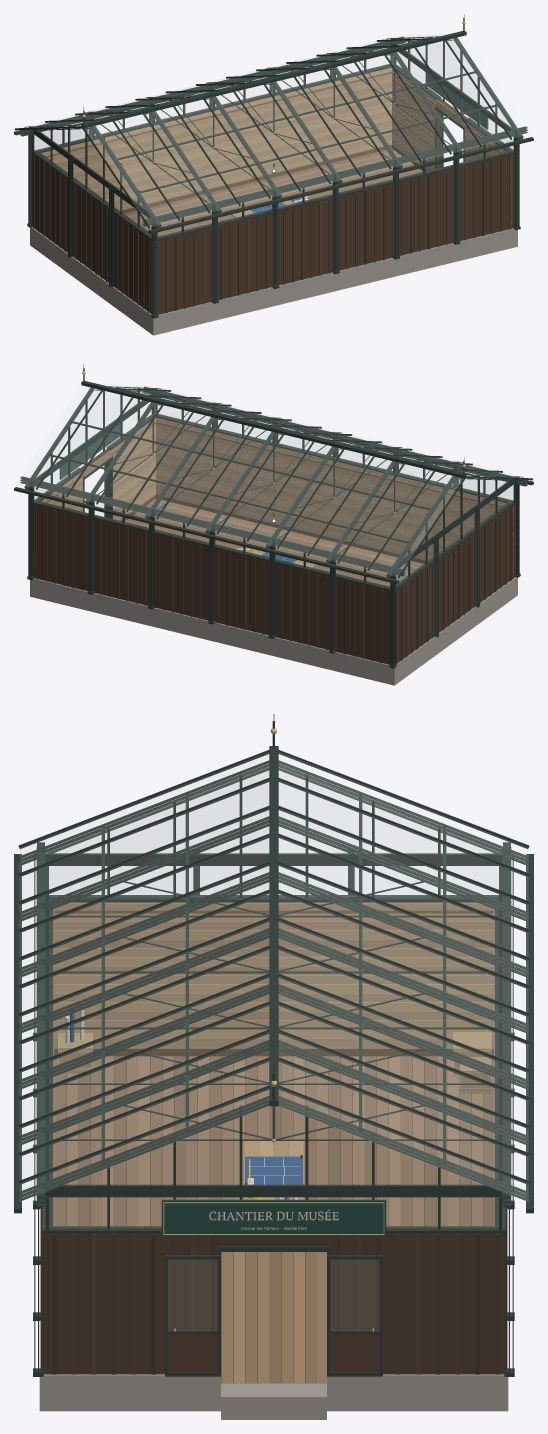
Rendered from chantier.glb.
3 views of the same model, one above another, from view 1: azimuth 30°, elevation 25°; view 2: azimuth 150°, elevation 25°; view 3: azimuth 270°, elevation 25° (orthographic). The views are drawn at different scales.
Visible parts, largest first — view 1: Chantier_Verre, Chantier_Fer, Chantier_BoisDehors, Chantier_Lambris, Chantier_Socle, Chantier_Plancher, Chantier_Enseigne; view 2: Chantier_Verre, Chantier_Fer, Chantier_BoisDehors, Chantier_Lambris, Chantier_Socle, Chantier_Plancher, Chantier_Enseigne; view 3: Chantier_Verre, Chantier_Fer, Chantier_Plancher, Chantier_BoisDehors, Chantier_Lambris, Chantier_Socle, Chantier_Enseigne, Chantier_Plan, Chantier_Laiton.
Boxes of the visible parts, bbox=[...] form: Chantier_Verre: bbox=[24, 34, 531, 237]; Chantier_Fer: bbox=[14, 14, 533, 318]; Chantier_BoisDehors: bbox=[32, 98, 514, 314]; Chantier_Lambris: bbox=[34, 67, 511, 313]; Chantier_Socle: bbox=[30, 144, 517, 335]; Chantier_Plancher: bbox=[124, 148, 422, 236]; Chantier_Enseigne: bbox=[427, 74, 488, 129]; Chantier_Verre: bbox=[16, 384, 523, 587]; Chantier_Fer: bbox=[14, 364, 533, 668]; Chantier_BoisDehors: bbox=[33, 448, 515, 664]; Chantier_Lambris: bbox=[36, 417, 513, 595]; Chantier_Socle: bbox=[30, 491, 517, 685]; Chantier_Plancher: bbox=[125, 498, 423, 586]; Chantier_Enseigne: bbox=[59, 424, 120, 479]; Chantier_Verre: bbox=[20, 752, 527, 1330]; Chantier_Fer: bbox=[14, 714, 533, 1376]; Chantier_Plancher: bbox=[54, 1032, 493, 1383]; Chantier_BoisDehors: bbox=[41, 1207, 506, 1374]; Chantier_Lambris: bbox=[53, 902, 494, 1226]; Chantier_Socle: bbox=[39, 1047, 508, 1419]; Chantier_Enseigne: bbox=[161, 1199, 386, 1236]; Chantier_Plan: bbox=[70, 1010, 302, 1199]; Chantier_Laiton: bbox=[163, 728, 384, 1331].
Size of the model in its own units: 12.72 by 5.87 by 7.86.
